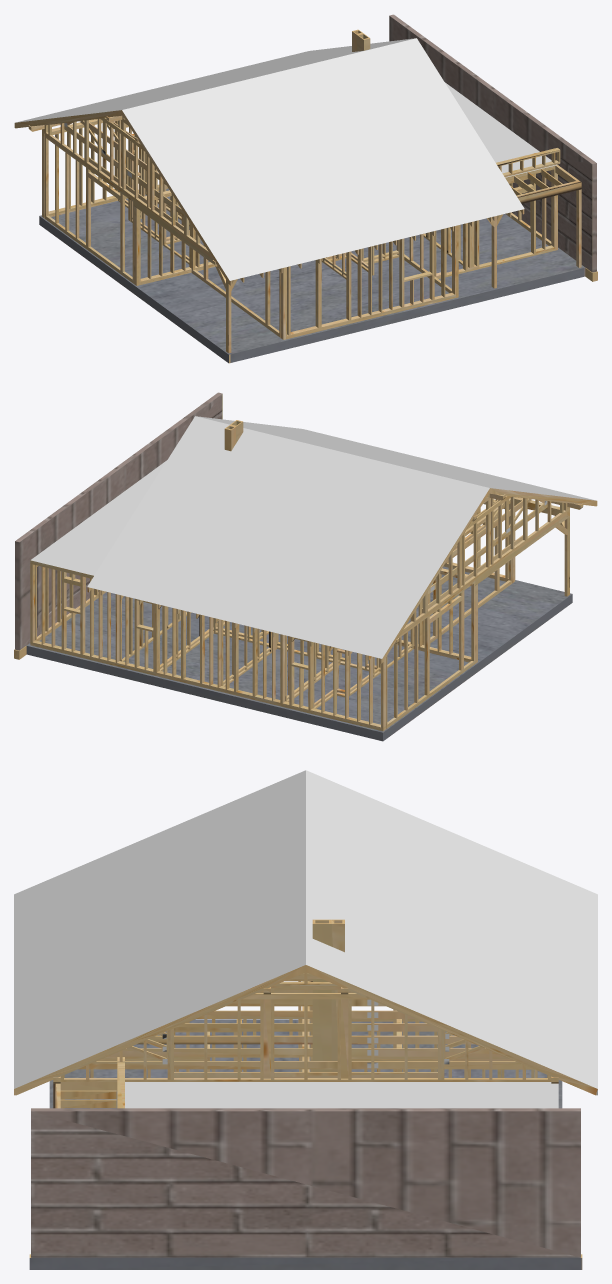
The model's file is building_under_construction_v3.fbx.
3 renders of one model, top to bottom at view 1: azimuth 30°, elevation 25°; view 2: azimuth 150°, elevation 25°; view 3: azimuth 270°, elevation 25°, orthographic. The views are drawn at different scales.
Visible parts, largest first — view 1: Building_Under_Construction; view 2: Building_Under_Construction; view 3: Building_Under_Construction.
Part boxes in pixels (<box>): Building_Under_Construction: <box>14,14,597,363</box>; Building_Under_Construction: <box>14,392,597,741</box>; Building_Under_Construction: <box>14,770,597,1269</box>.
Size of the model in its own units: 1500 by 750 by 1500.
